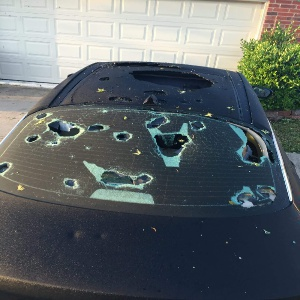bumper_scratch: (89, 174, 257, 274)
